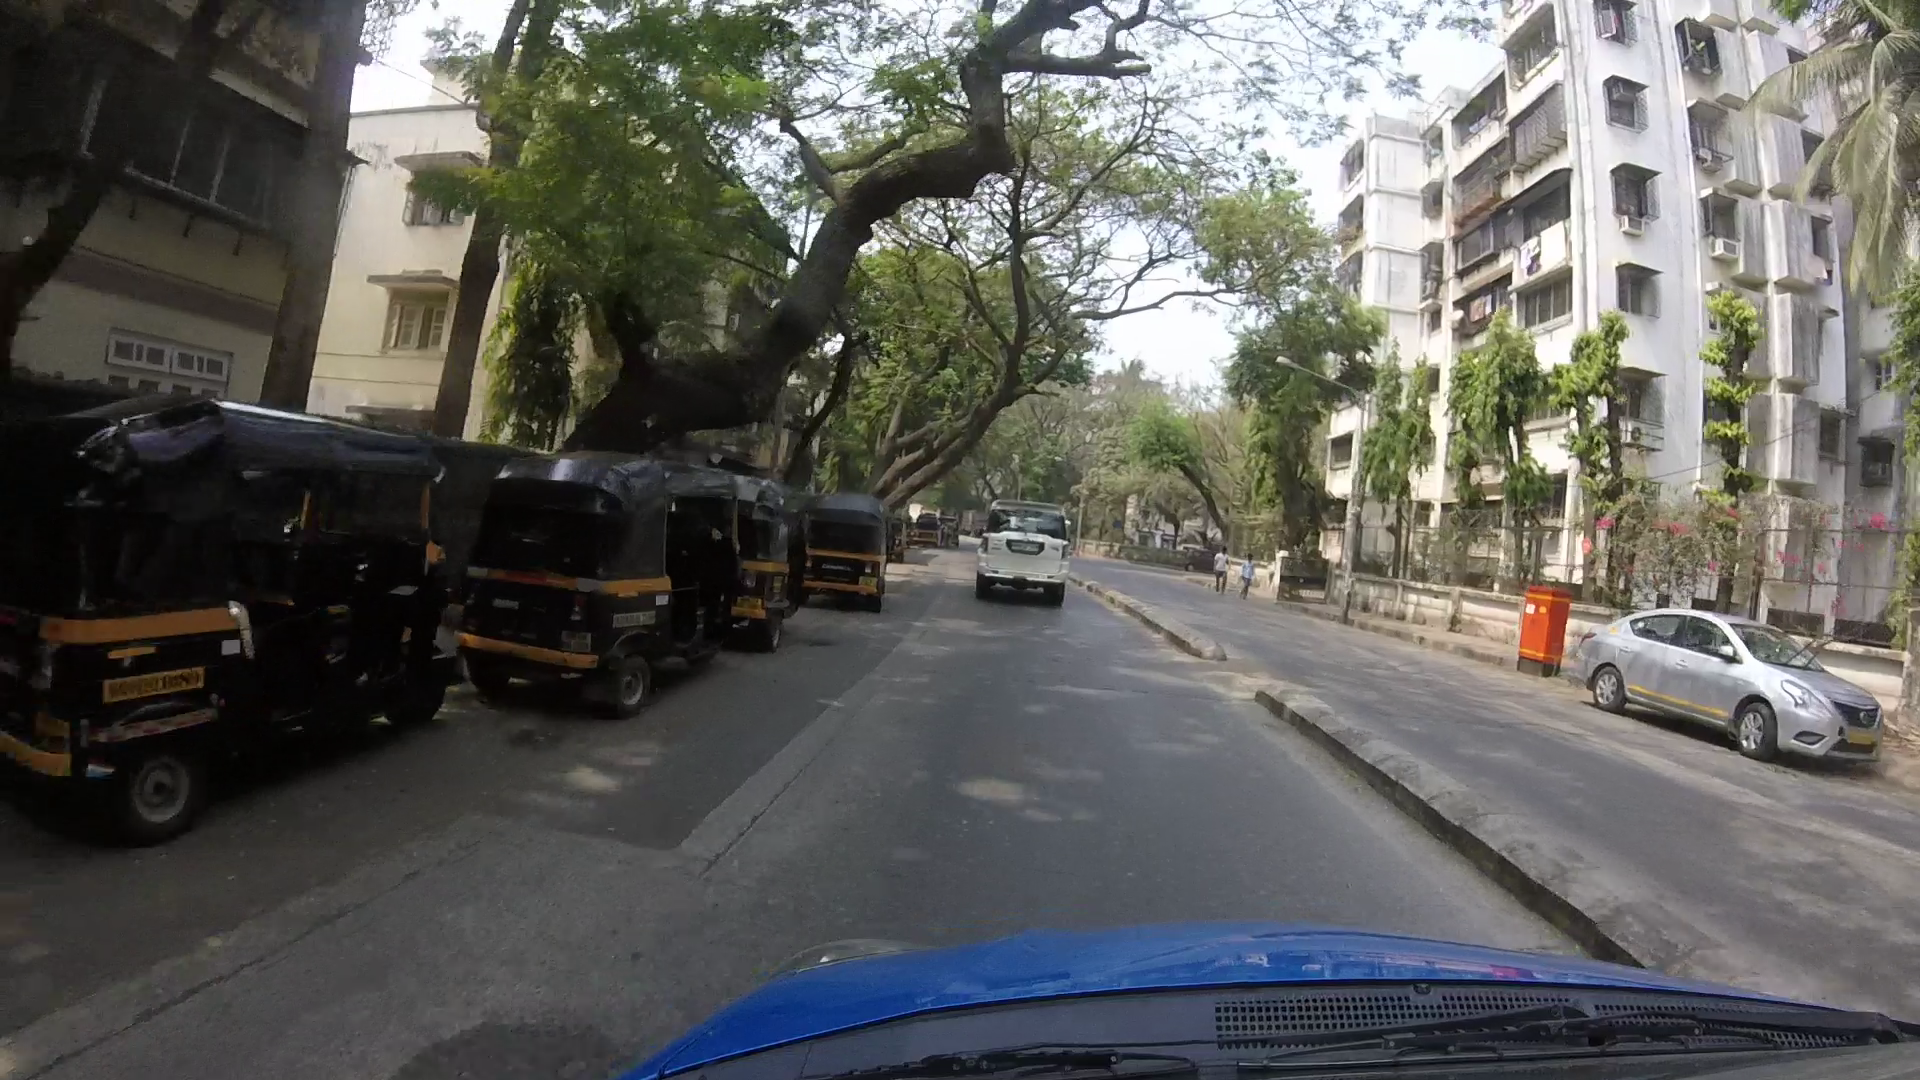car: (1542, 592, 1895, 793), (951, 472, 1118, 625)
rickshaw: (24, 363, 468, 816), (473, 419, 754, 731), (727, 463, 824, 675), (800, 492, 918, 634)
